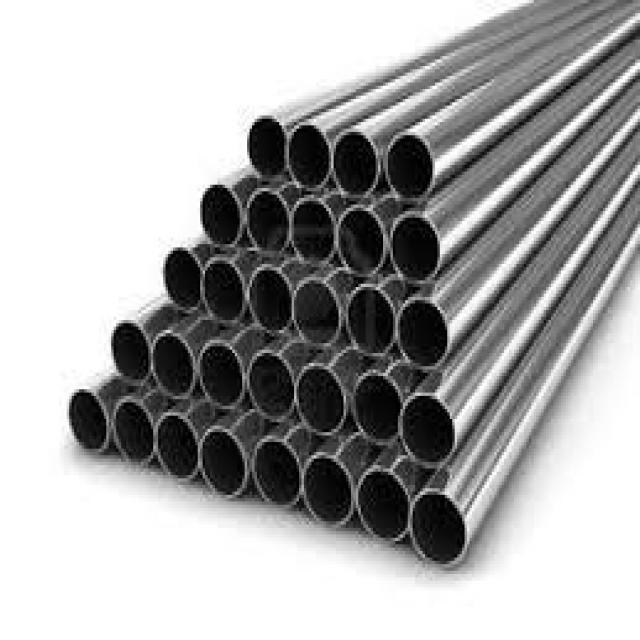pipe: (414, 496, 466, 564), (359, 473, 408, 540), (404, 397, 454, 462), (401, 301, 448, 366), (349, 287, 394, 352), (306, 460, 352, 522), (299, 370, 344, 432), (357, 376, 401, 439), (340, 210, 384, 272), (295, 281, 339, 343), (251, 354, 294, 416), (389, 135, 433, 195), (394, 218, 438, 278), (257, 443, 299, 504), (203, 433, 245, 494), (335, 132, 377, 192), (158, 416, 197, 478), (290, 125, 329, 186), (252, 270, 291, 330), (202, 346, 242, 404), (249, 191, 288, 250), (153, 335, 192, 394), (294, 201, 334, 258), (202, 185, 240, 244), (115, 403, 152, 462), (69, 391, 106, 449), (165, 249, 201, 308), (205, 263, 242, 320), (249, 118, 285, 174), (111, 324, 148, 378)
